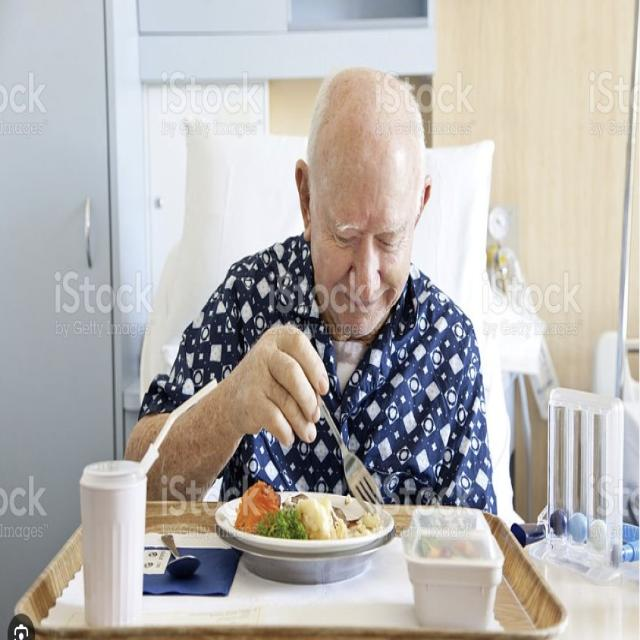eating-person: (66, 28, 516, 626)
